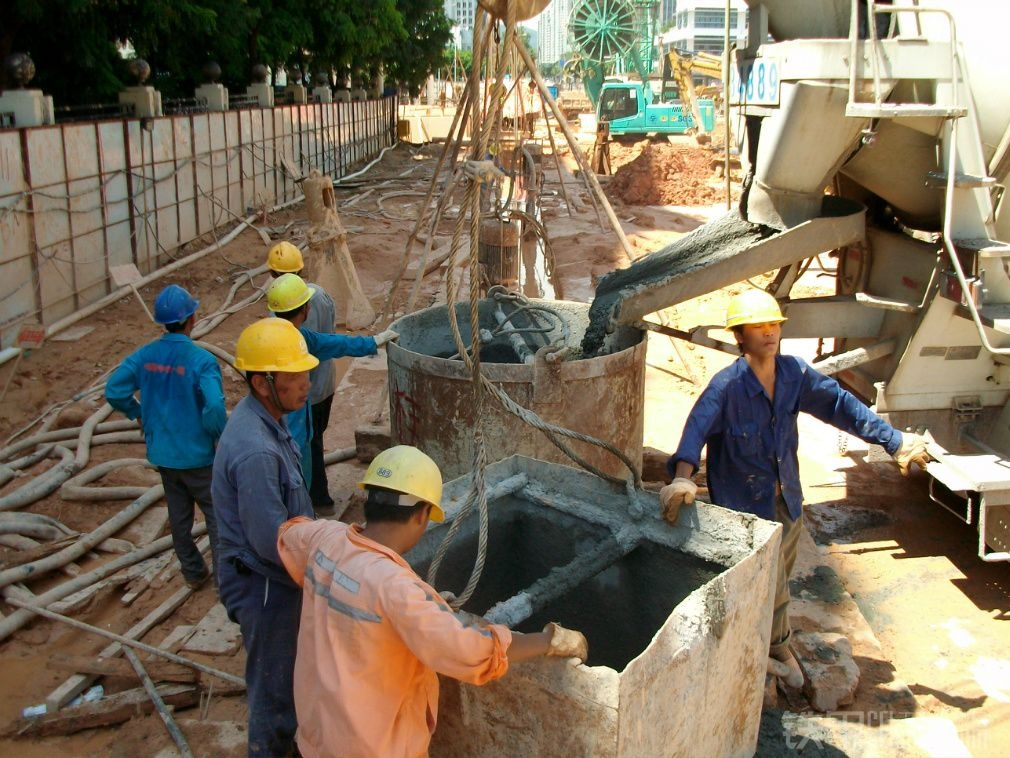blue: (153, 281, 197, 332)
yellow: (357, 442, 445, 547), (237, 317, 315, 409), (726, 288, 783, 359), (266, 275, 313, 324), (265, 242, 304, 279)
